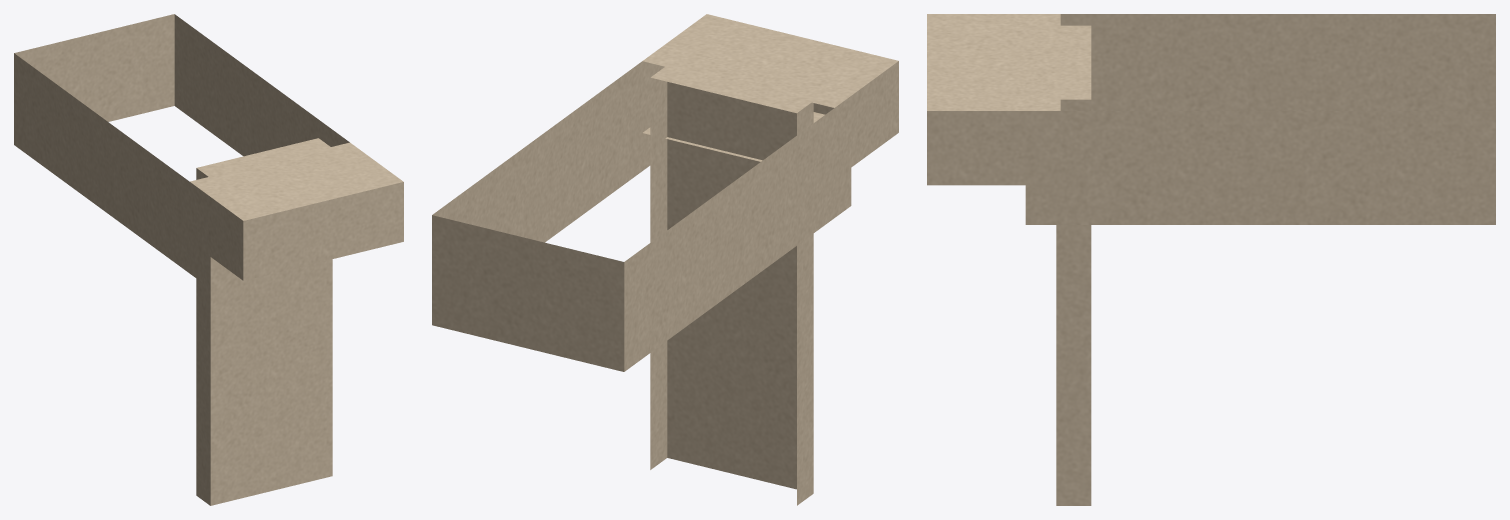
File: SM_House_EntryStucco.fbx
3 views of the same model, side by side, from view 1: azimuth 30°, elevation 25°; view 2: azimuth 150°, elevation 25°; view 3: azimuth 270°, elevation 25° (orthographic). The views are drawn at different scales.
Visible parts, largest first — view 1: SM_House_EntryStucco; view 2: SM_House_EntryStucco; view 3: SM_House_EntryStucco.
Boxes of the visible parts, x1,y1,x2,y2 form: SM_House_EntryStucco: (14,14,403,505); SM_House_EntryStucco: (432,14,898,505); SM_House_EntryStucco: (927,14,1495,505).
Bounding box in the file's own units: 2.1 × 4.1 × 5.2.
Materials: 1 (1 with a texture image).
